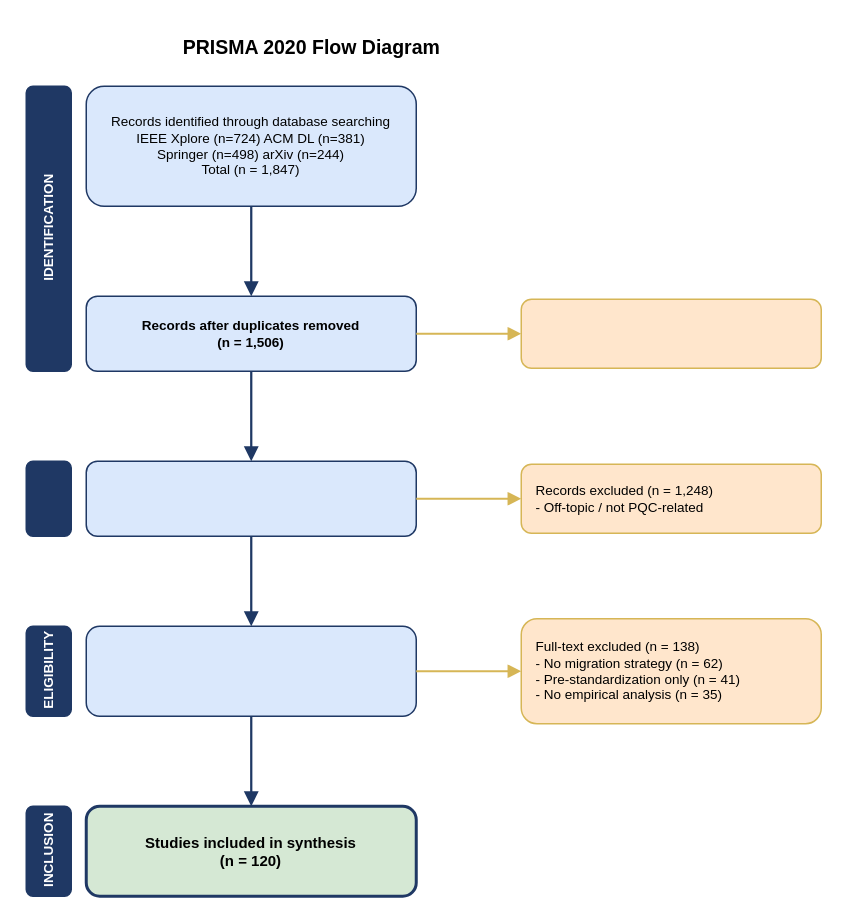
Image size: 848x923. Some labels were removed from this diagram. Here are the shapes that lost their labels. From the top down, the centre of each, then its label:
the point at 670,333: Duplicates removed (n = 341)
the point at 48,498: SCREENING
the point at 250,498: Records screened (n = 1,506)
the point at 250,670: Full-text articles assessed for eligibility (n = 258)
